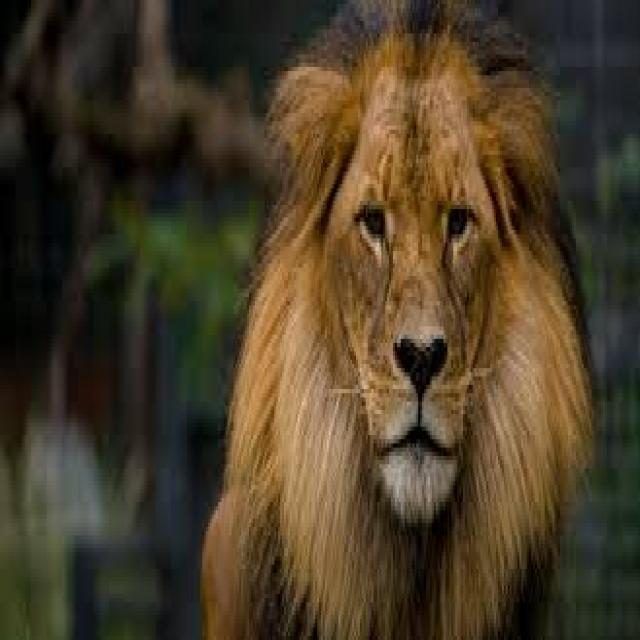Lion: (204, 0, 597, 636)
